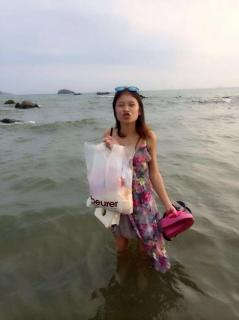sling: (107, 127, 171, 274)
